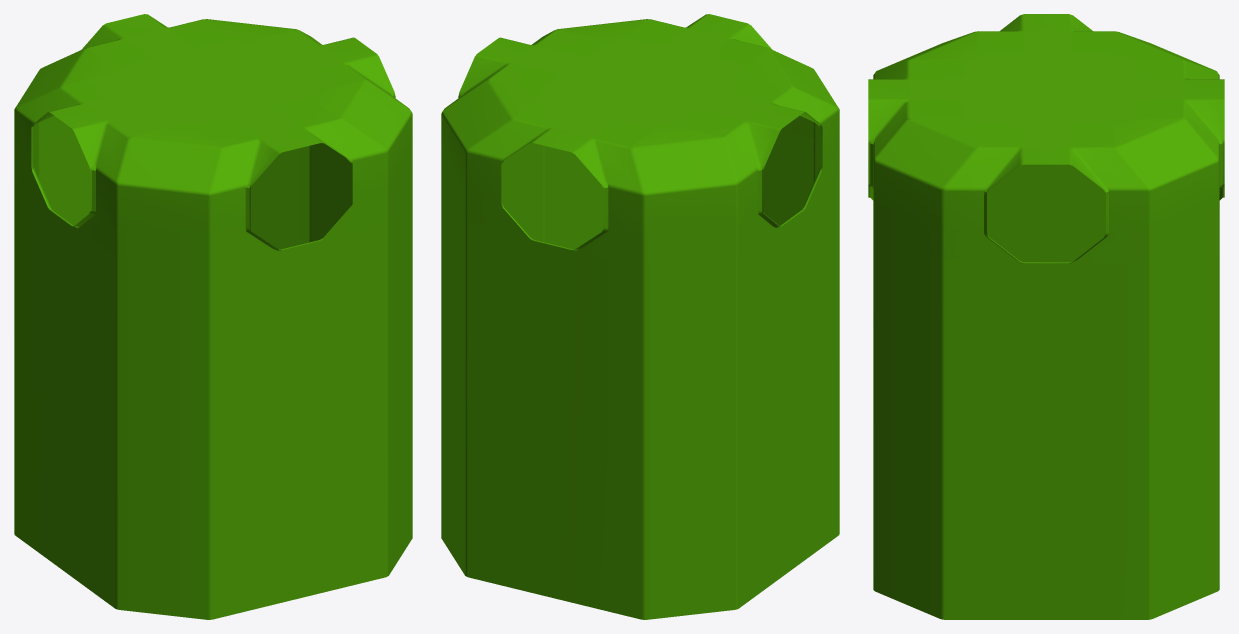
File: Arena Techo soft.fbx
3 views of the same model, side by side, from view 1: azimuth 30°, elevation 25°; view 2: azimuth 150°, elevation 25°; view 3: azimuth 270°, elevation 25° (orthographic).
Visible parts, largest first — view 1: arena_techo; view 2: arena_techo; view 3: arena_techo.
Part boxes in pixels (x1,y1,x2,y2): arena_techo: (14, 14, 412, 619); arena_techo: (441, 14, 839, 619); arena_techo: (868, 14, 1224, 619).
Bounding box in the file's own units: 72 × 102 × 72.
